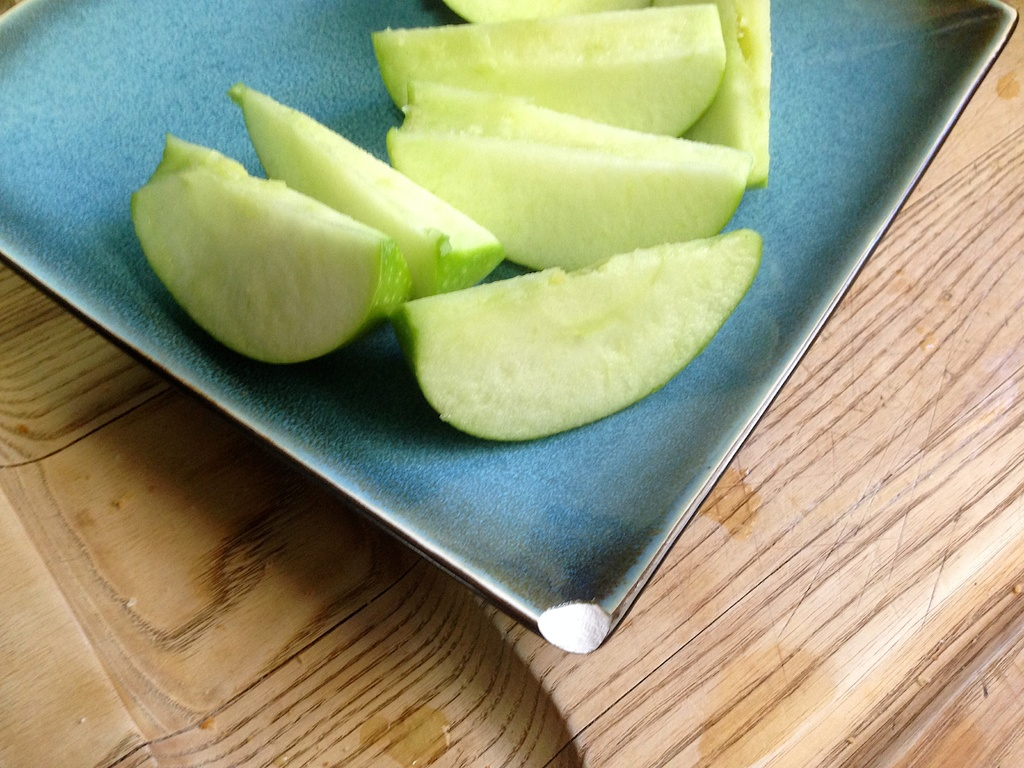Apple: (147, 0, 775, 443), (145, 105, 467, 360)
